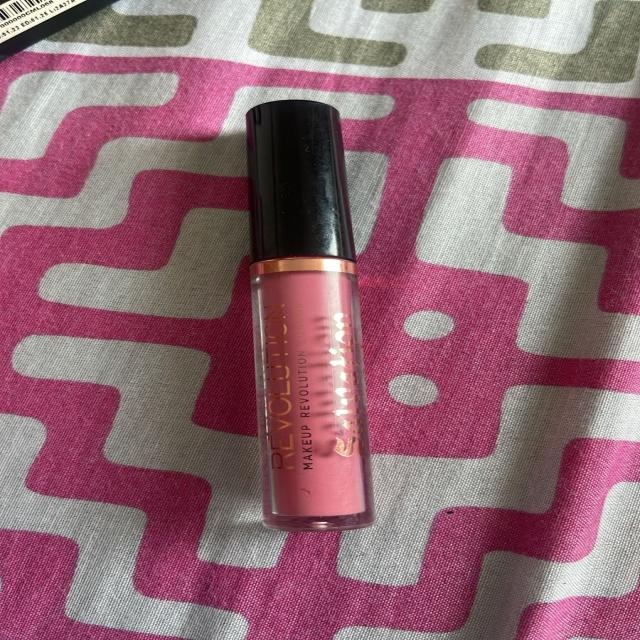lip gloss: (197, 79, 427, 547)
